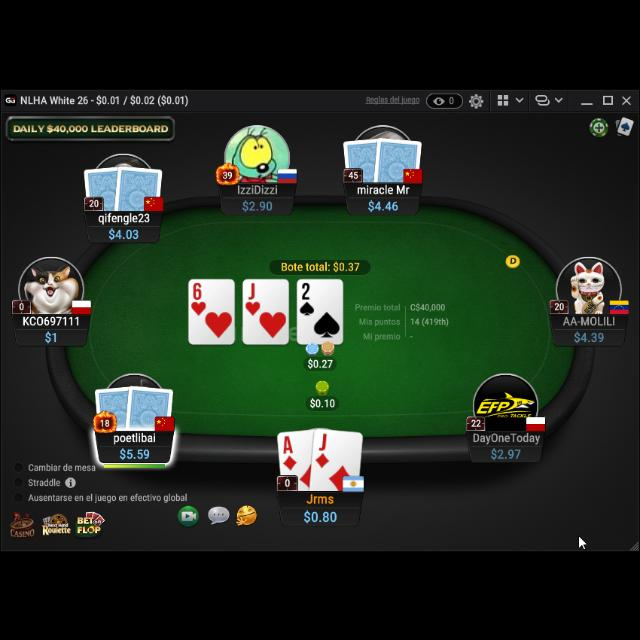2s: (298, 281, 316, 317)
6h: (188, 280, 210, 316)
Ad: (282, 434, 300, 472)
Jd: (314, 430, 330, 470)
Jh: (244, 281, 262, 317)
bet_text: (306, 356, 334, 369), (310, 396, 338, 408)
card_back: (124, 384, 176, 434), (114, 164, 164, 214), (372, 135, 422, 185), (342, 136, 388, 184), (82, 164, 126, 212), (94, 386, 134, 432)
dealer: (504, 251, 522, 269)
pot_text: (280, 261, 362, 271)
stack_text: (302, 506, 340, 526), (107, 225, 143, 241), (240, 196, 274, 212), (572, 328, 606, 344), (489, 446, 523, 460), (118, 446, 152, 460), (368, 199, 400, 211), (42, 328, 59, 342)
